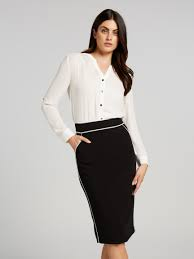F_tailored skirt: (69, 116, 145, 247)
